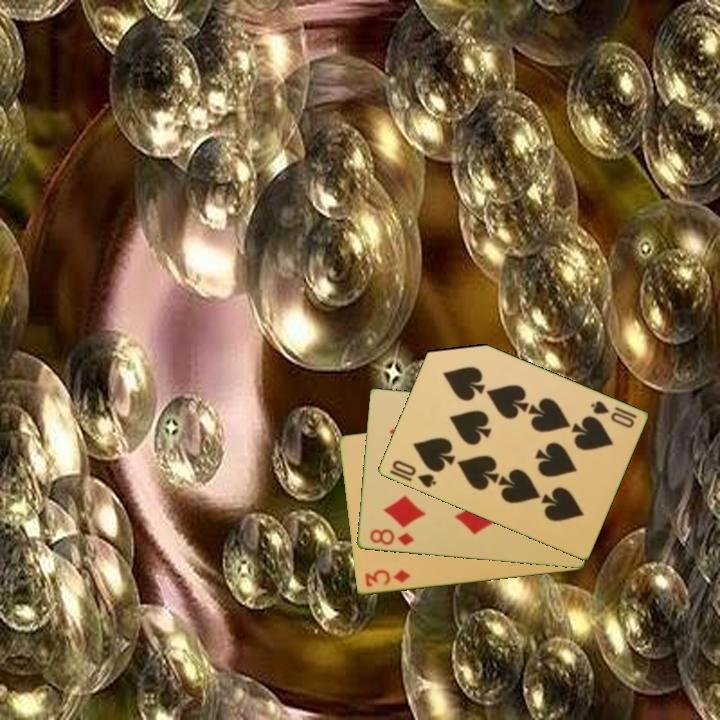10s: (388, 456, 439, 491), (587, 397, 639, 431)
3d: (361, 566, 413, 590)
8d: (366, 526, 417, 549)
